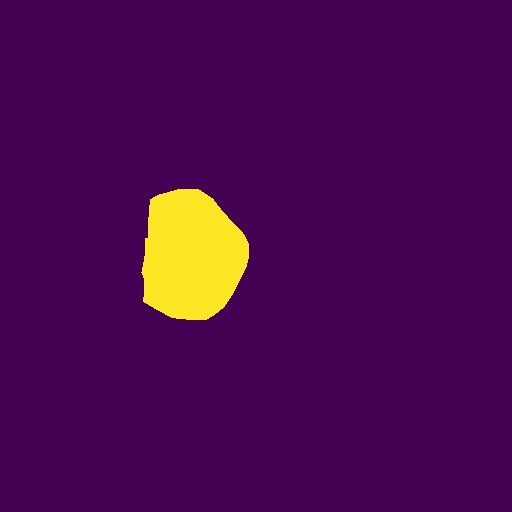Gliomia_tumour: (141, 189, 249, 320)
